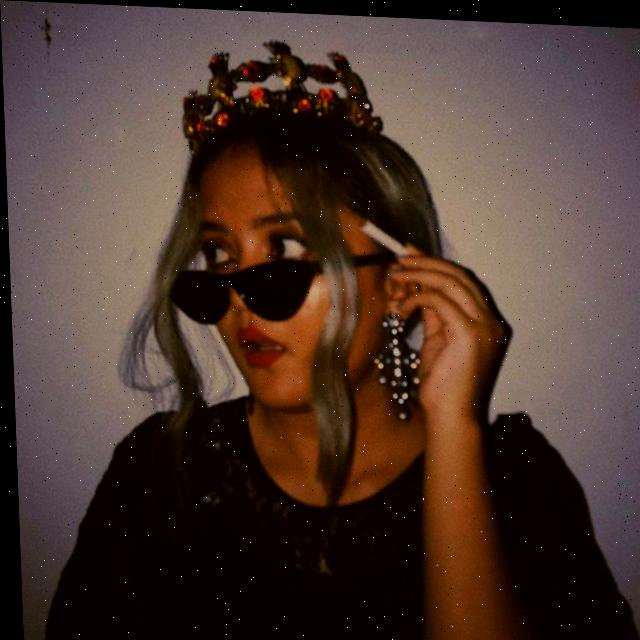cigarette: (355, 215, 409, 254)
